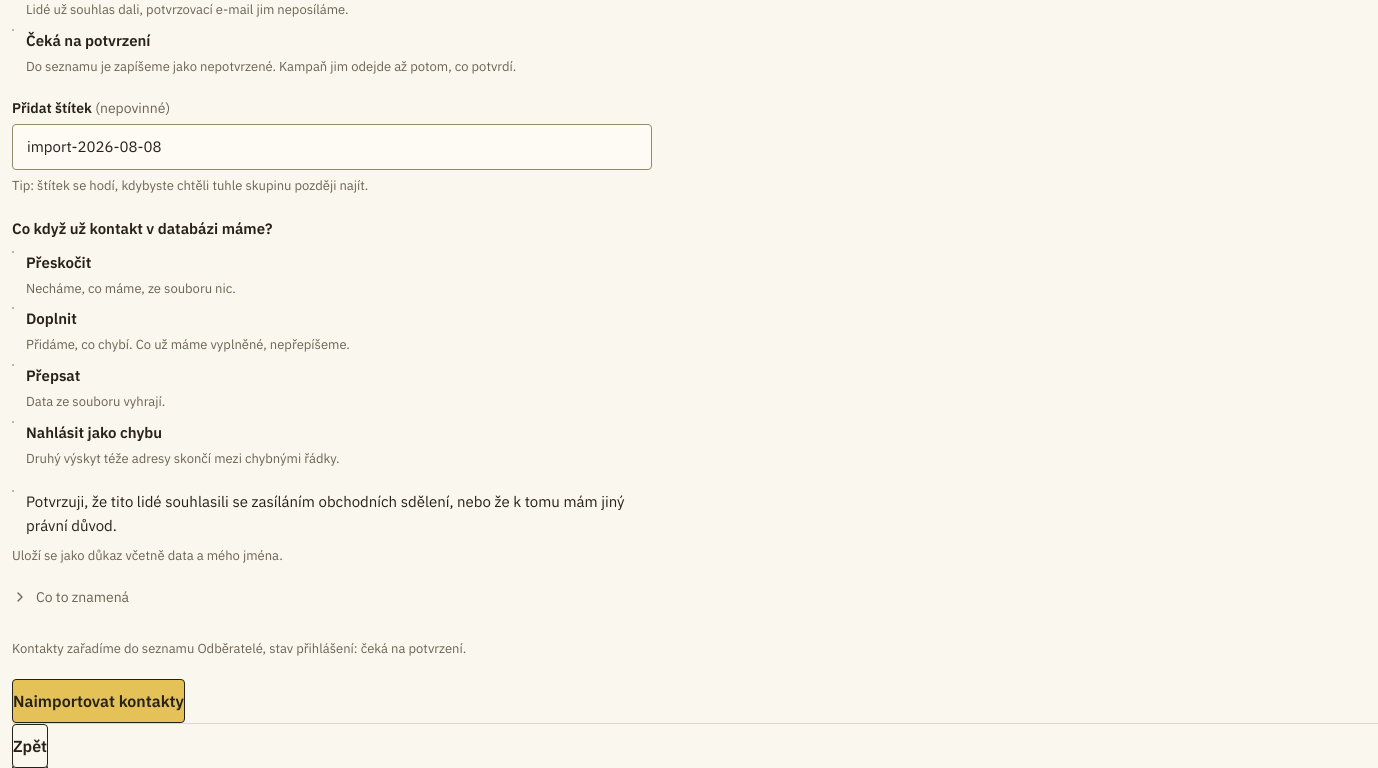
Scenario: import wizard options step › stops on the options step when the tag cannot be created, instead of importing quietly
The width and height of the screenshot is (1378, 768).
(page scrolled)
Click the button "Naimportovat kontakty" at (98, 701), box [12, 679, 185, 723]
(page scrolled)
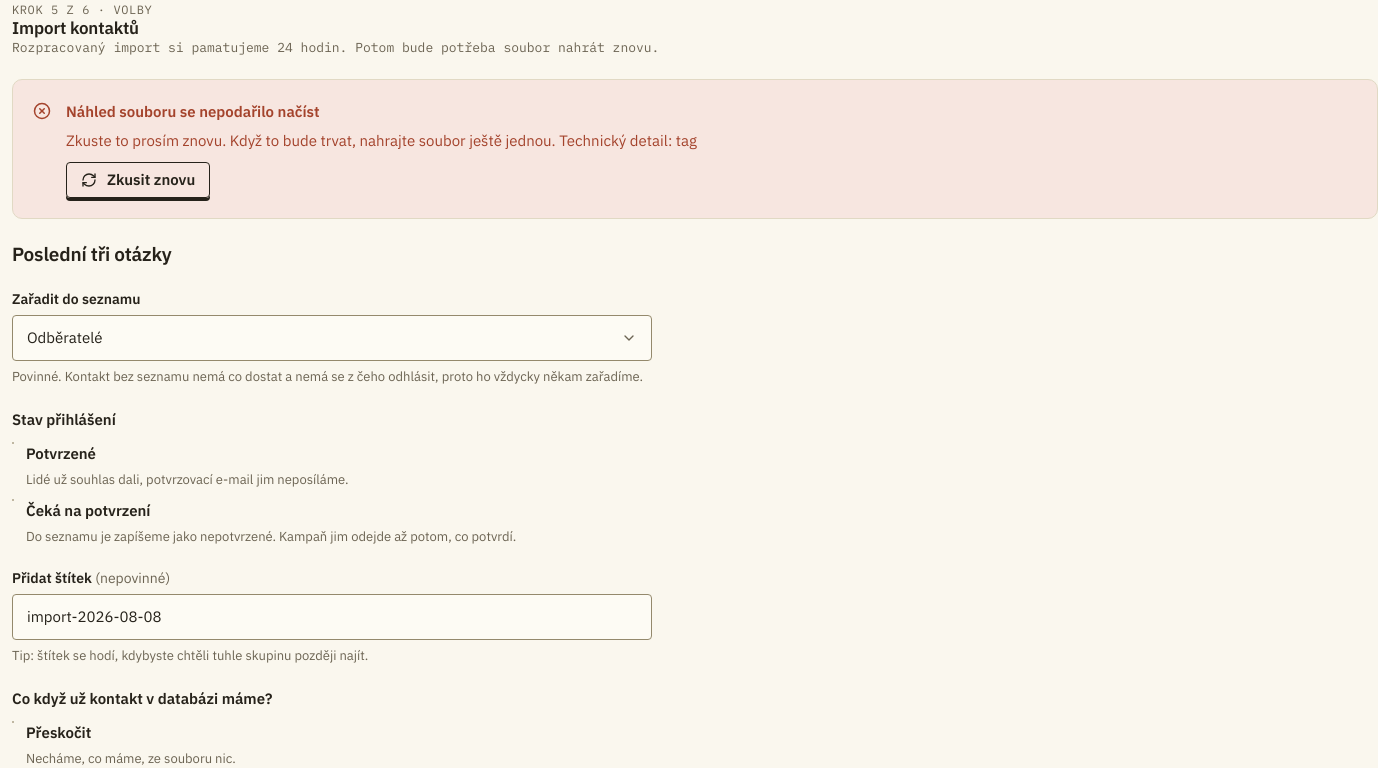
Check: the message that starts with "Náhled souboru se nepodařilo načíst" is shown, box [12, 79, 1377, 219]
